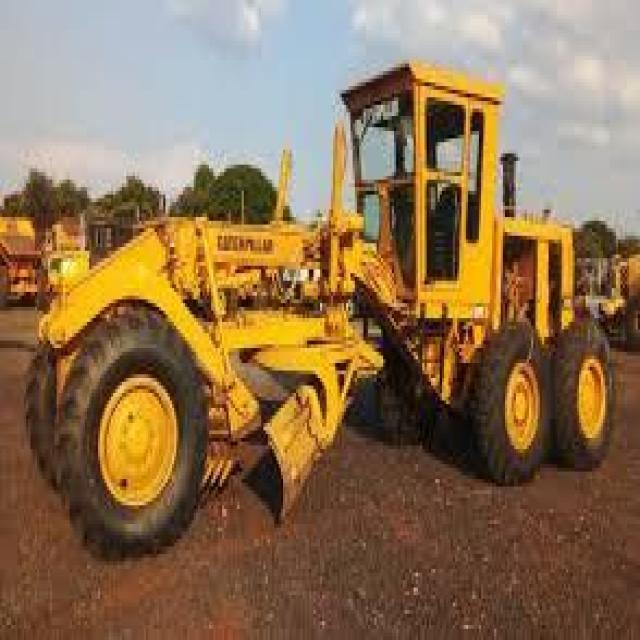buldozerpayloadergrader: (31, 45, 634, 573)
